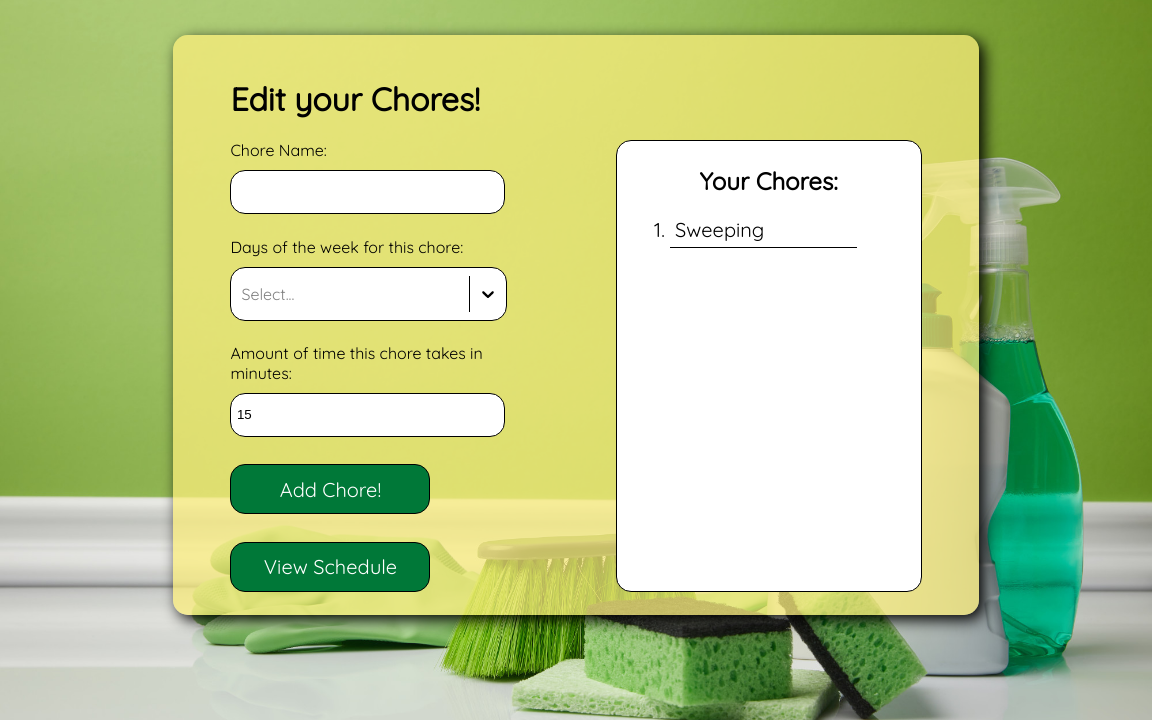
Test case: Chore Form › should allow a user to change the number of minutes a task takes
Step 1. Click the number field labelled "Amount of time this chore takes in minutes:" → (368, 415), box 230,393 -> 505,437
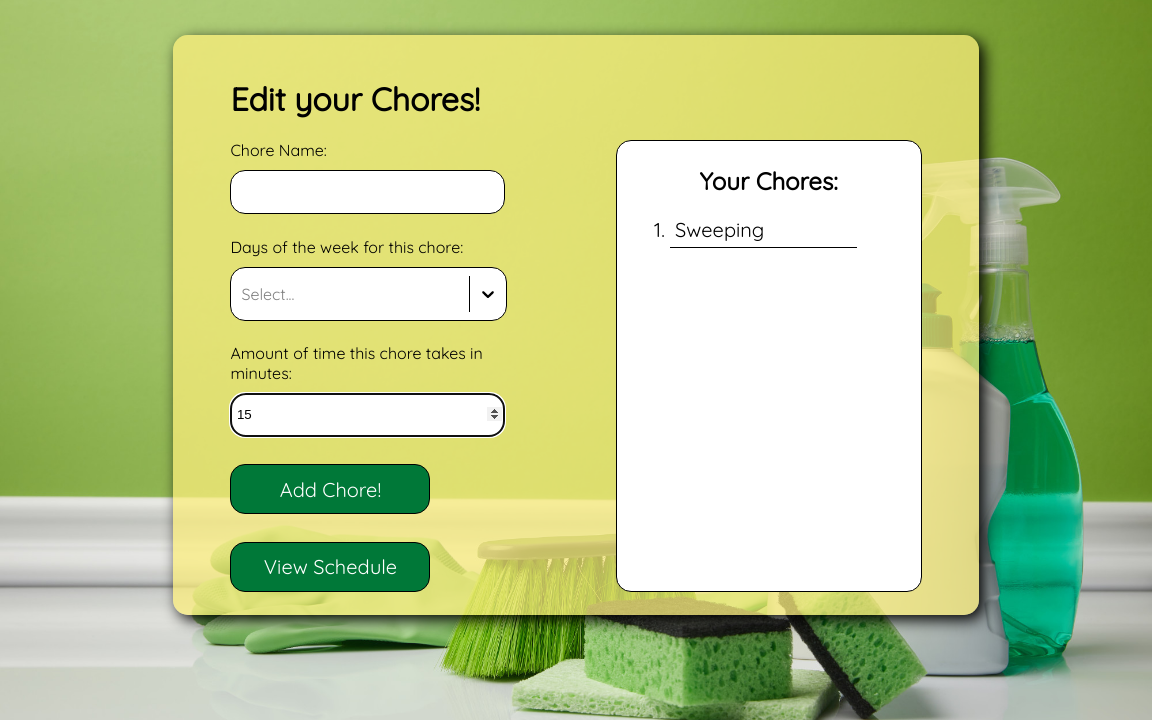
Step 2. Press Uparrow in the number field labelled "Amount of time this chore takes in minutes:", box 230,393 -> 505,437
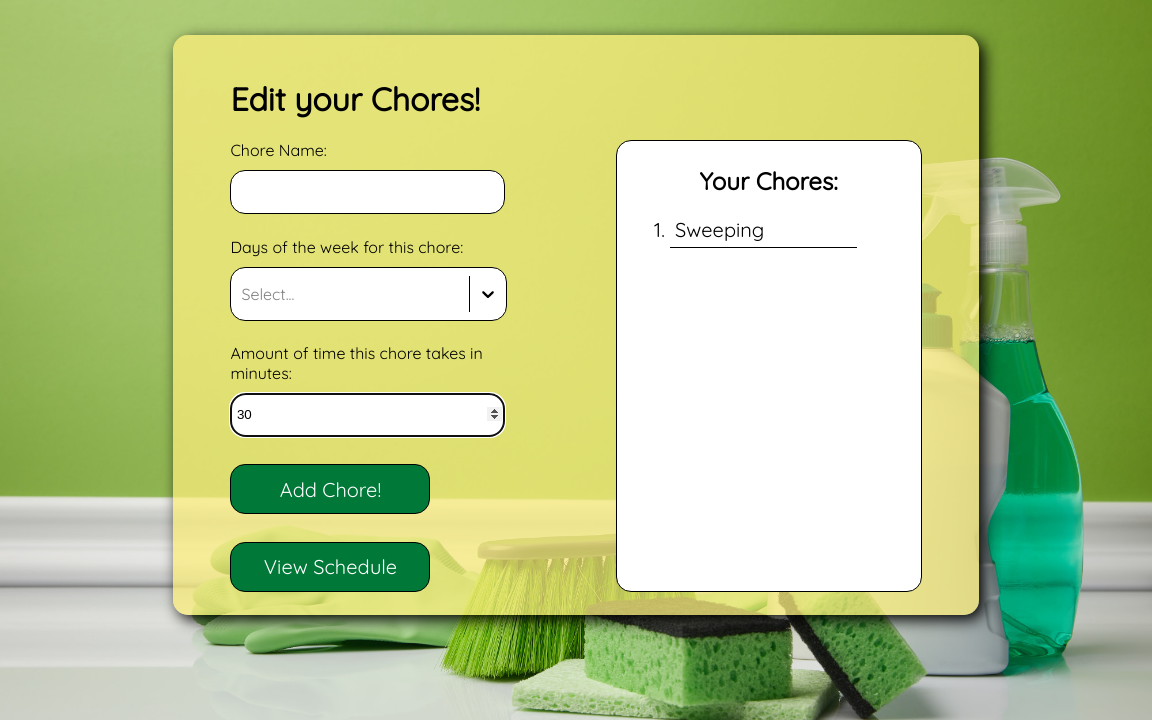
Expected: the number field labelled "Amount of time this chore takes in minutes:" holds "30", 230,393 -> 505,437
